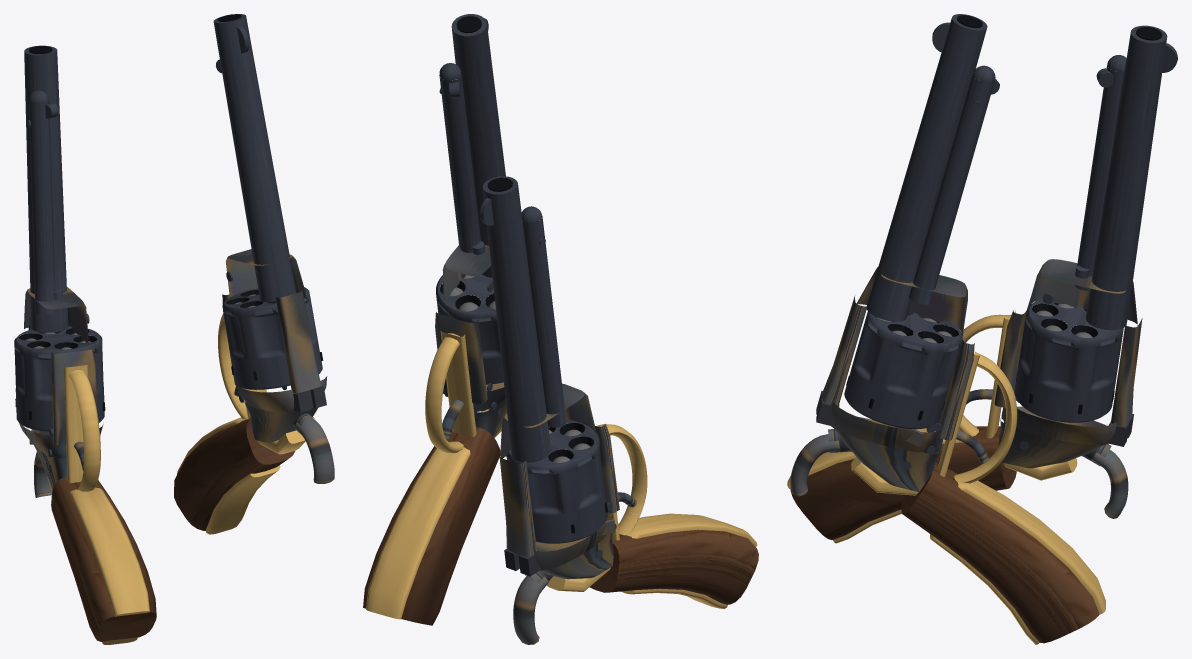
Rendered from gun.blued-six.glb.
3 views of the same model, side by side, from view 1: azimuth 30°, elevation 25°; view 2: azimuth 150°, elevation 25°; view 3: azimuth 270°, elevation 25° (orthographic). The views are drawn at different scales.
Parts seen in each view (by area): view 1: revolver (×2); view 2: revolver (×2); view 3: revolver (×2).
Part boxes in pixels (<box>): revolver (×2): <box>14,14,334,644</box>; revolver (×2): <box>363,14,758,644</box>; revolver (×2): <box>787,14,1177,644</box>.
Size of the model in its own units: 0.1616 by 0.3355 by 0.1944.
Materials: 1 (1 with a texture image).
